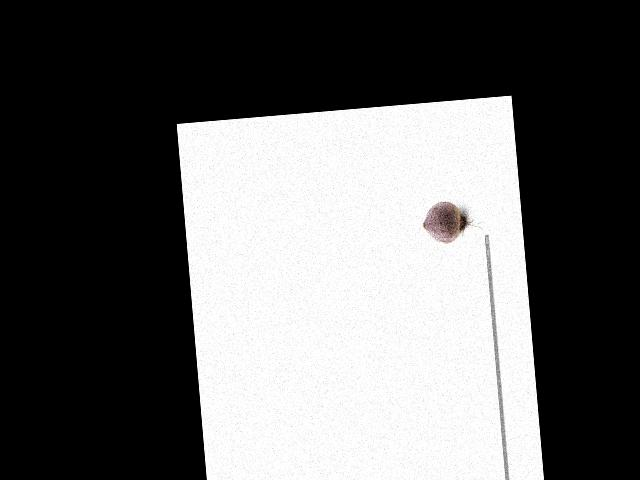beet: (420, 198, 486, 246)
